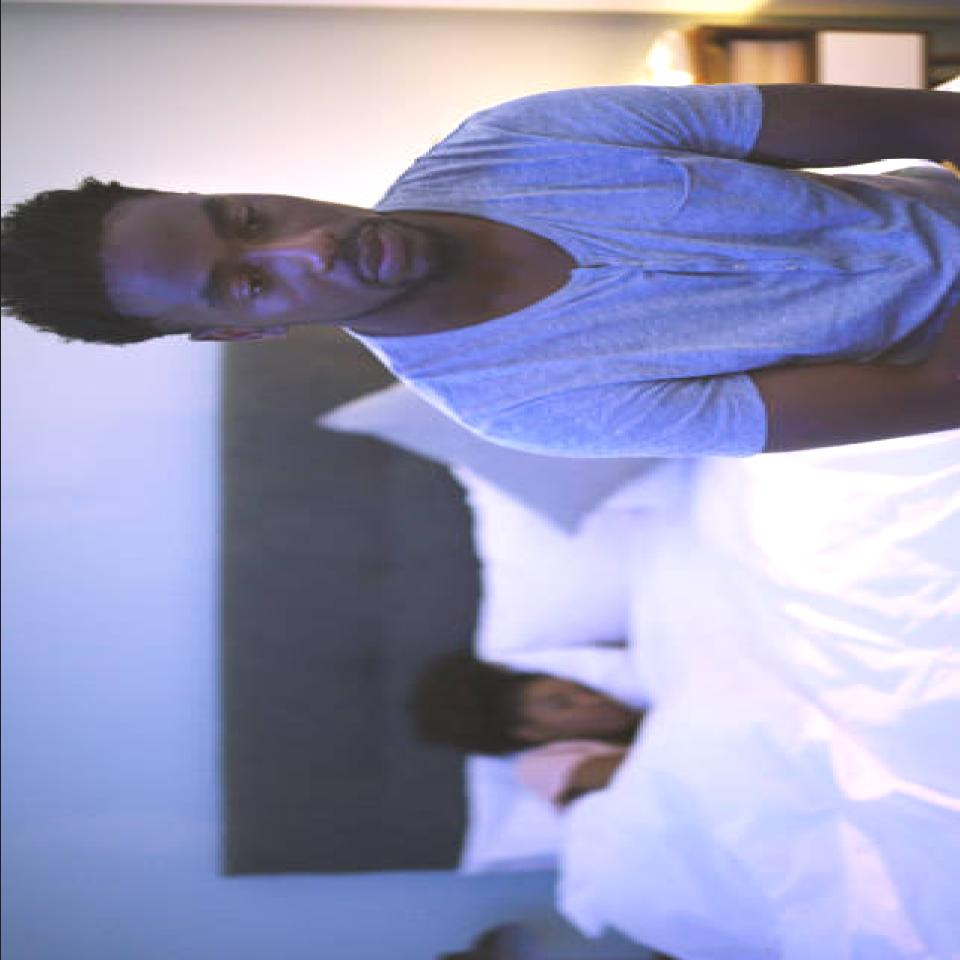Sadness: (150, 194, 434, 334)
